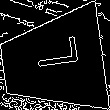L_W: (26, 43, 80, 81)
